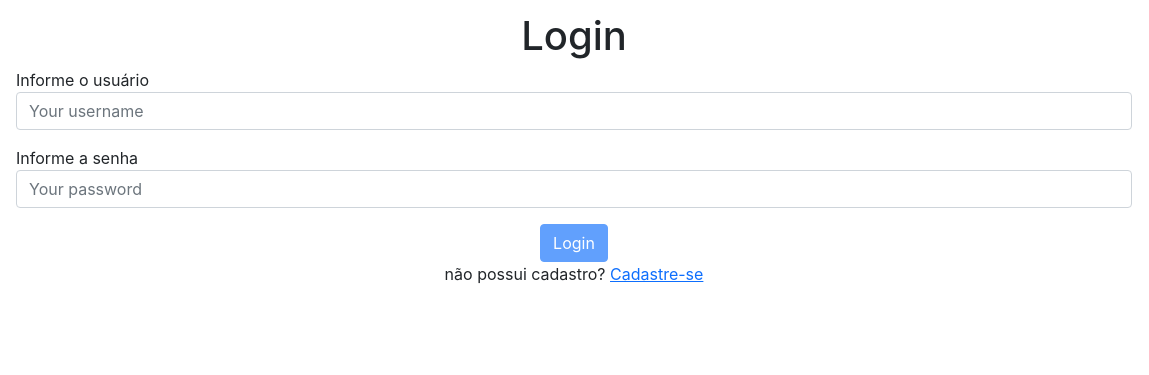
Test case: LoginPage › Interactions › displays alert when login fails
The width and height of the screenshot is (1149, 375).
Type "my-user-name" into the field with placeholder "Your username". click: coordinates (574, 111)
box: [16,92,1132,130]
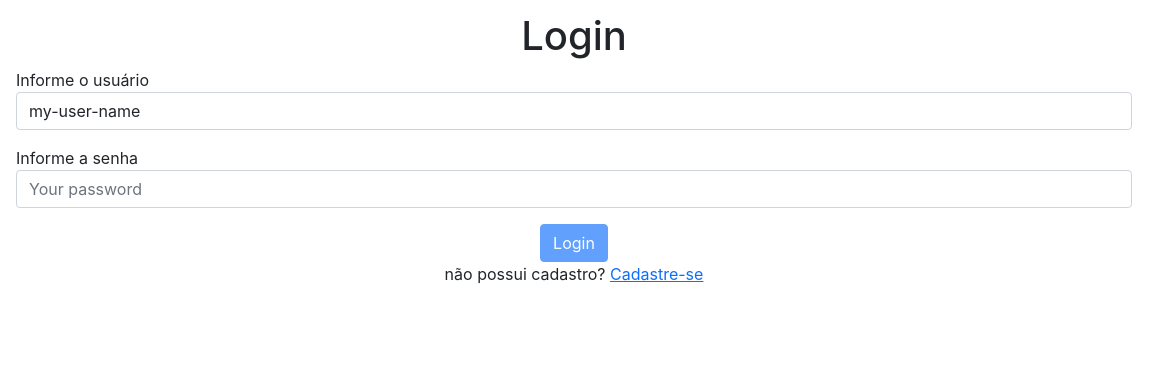
Type "P4ssword" into the password field with placeholder "Your password". click: coordinates (574, 189)
box: [16,170,1132,208]
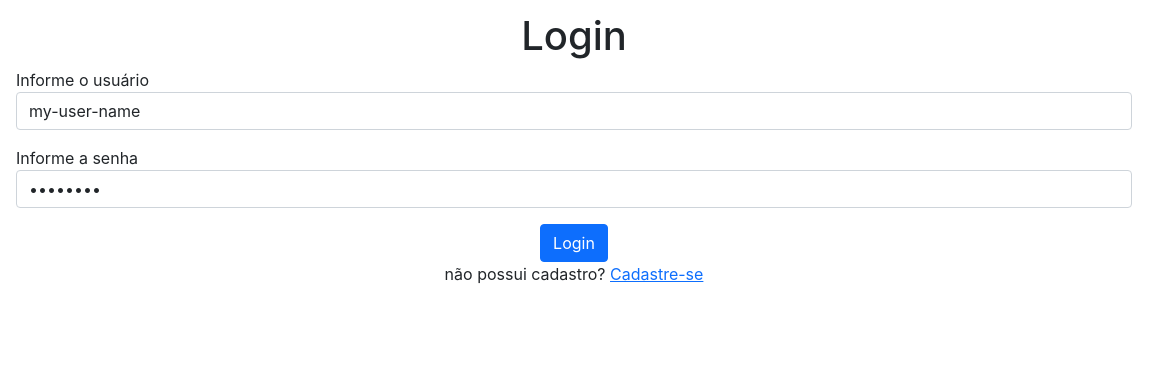
Click the button "Login". click: coordinates (574, 243)
box: [540,224,608,262]
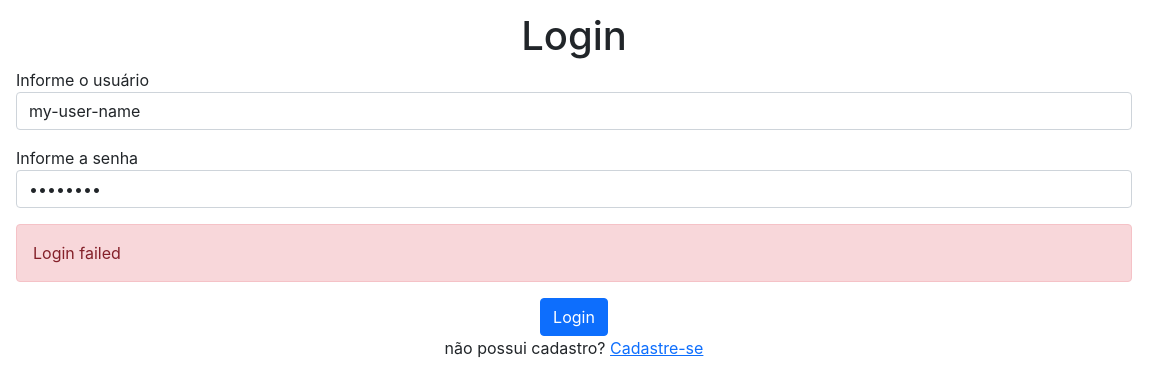
Now the text "Login failed" is shown, box [16,224,1132,282]
